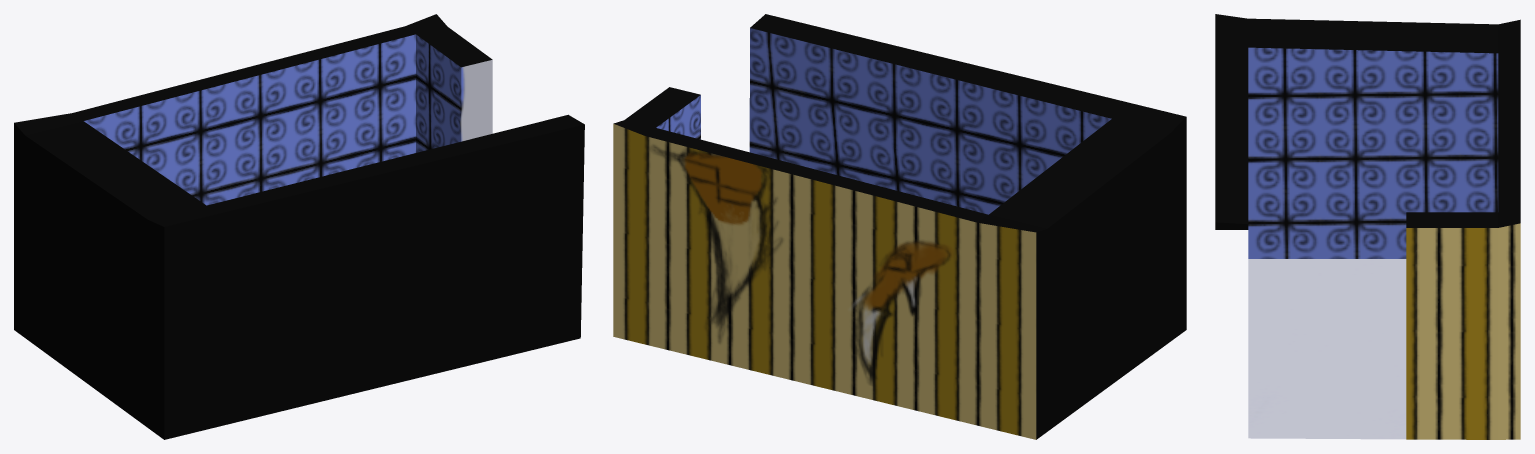
File: small Bathroom 3.fbx
3 renders of one model, left to right at view 1: azimuth 30°, elevation 25°; view 2: azimuth 150°, elevation 25°; view 3: azimuth 270°, elevation 25°, orthographic.
Visible parts, largest first — view 1: Small Bathroom; view 2: Small Bathroom; view 3: Small Bathroom.
Part boxes in pixels (bbox=[...]): Small Bathroom: bbox=[14, 14, 584, 439]; Small Bathroom: bbox=[613, 14, 1186, 439]; Small Bathroom: bbox=[1215, 14, 1520, 439].
Bounding box in the file's own units: 620 × 298 × 381.
